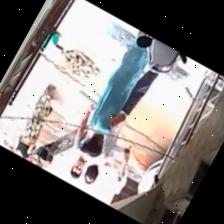person: (80, 41, 148, 156), (15, 84, 56, 158), (84, 122, 130, 183), (71, 104, 94, 178)
